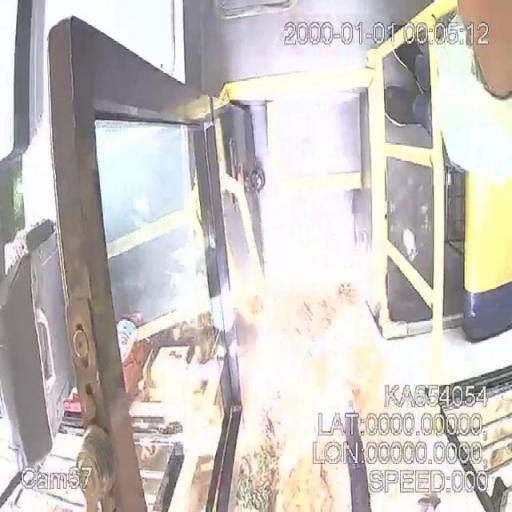persona: (379, 0, 511, 185)
